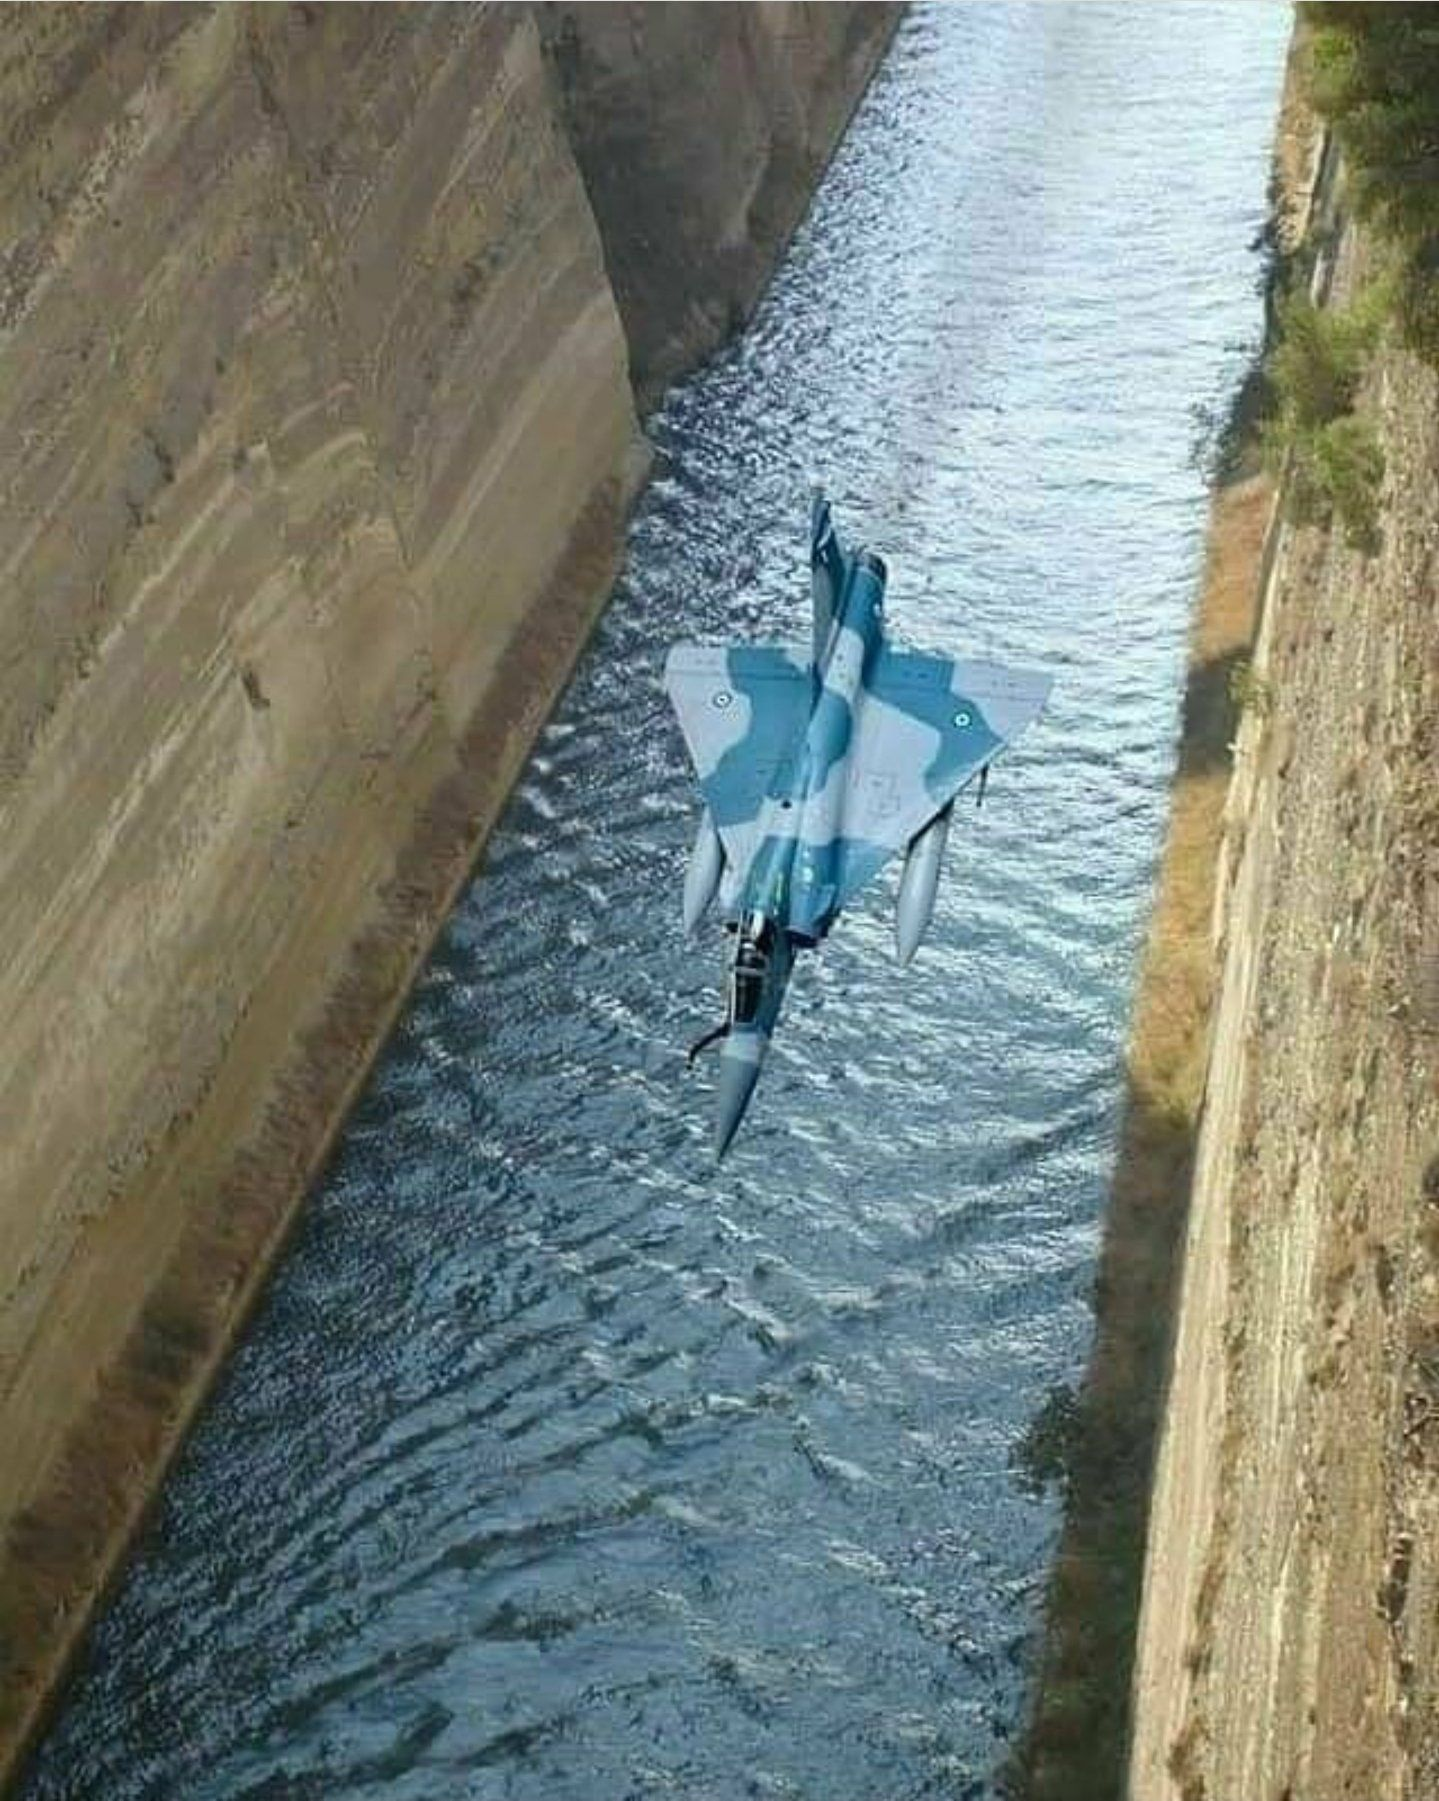Mirage2000: (662, 486, 1054, 1163)
